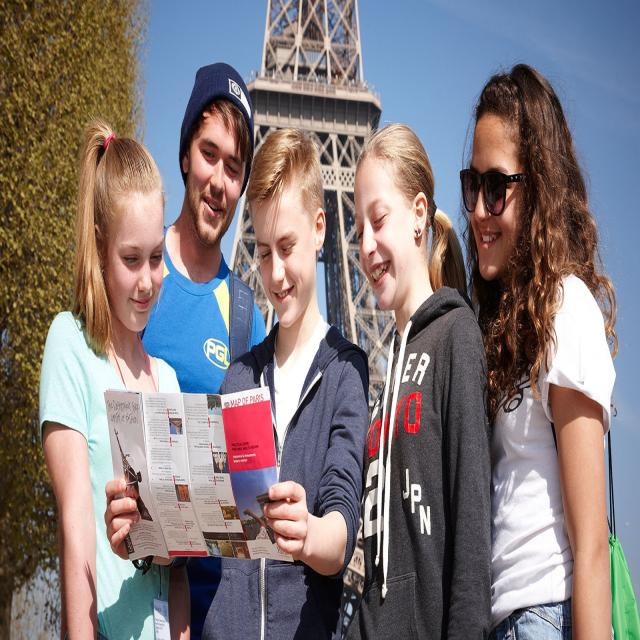body: (103, 111, 374, 640), (456, 57, 621, 639), (37, 113, 195, 640), (339, 119, 494, 640), (140, 60, 268, 639)
